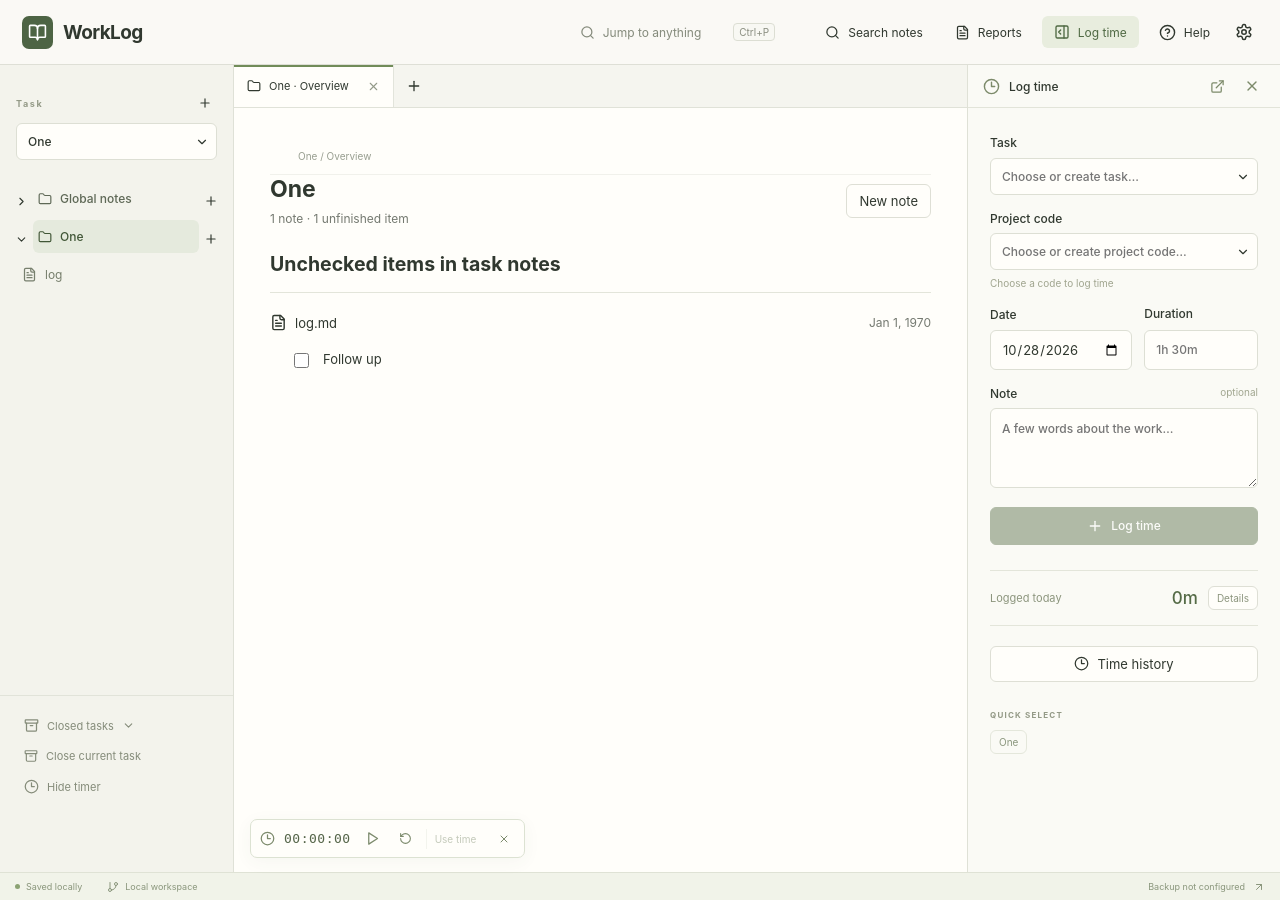
Scenario: opens one overview tab, saves a checkbox to its source, and jumps into the checked note
Step 1. Click the 1st button titled "Open One overview · Drop here to move to One" → (116,236), box [33,220,199,253]
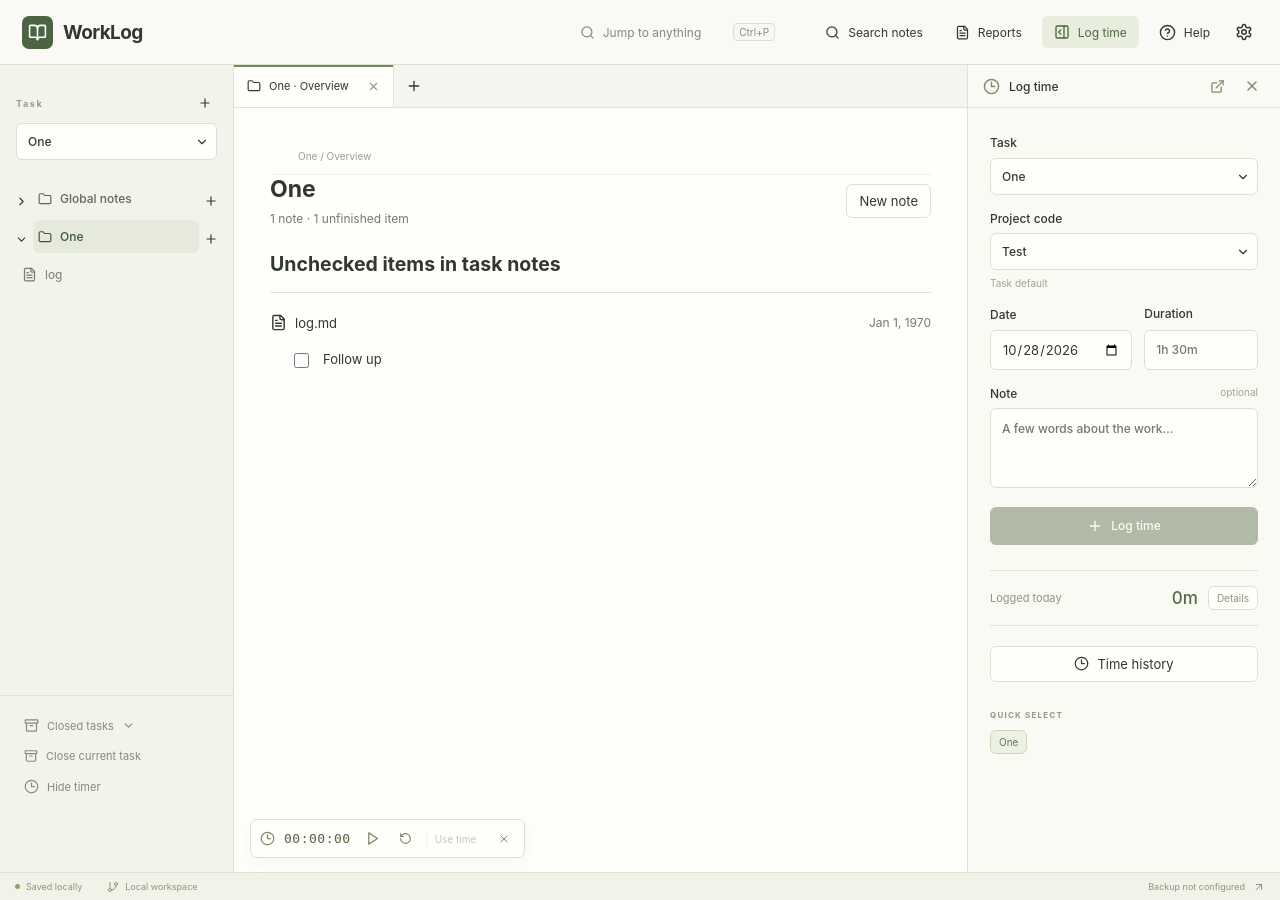
Step 2. Click the checkbox named "Follow up" → (302,361), box [294,353,309,368]
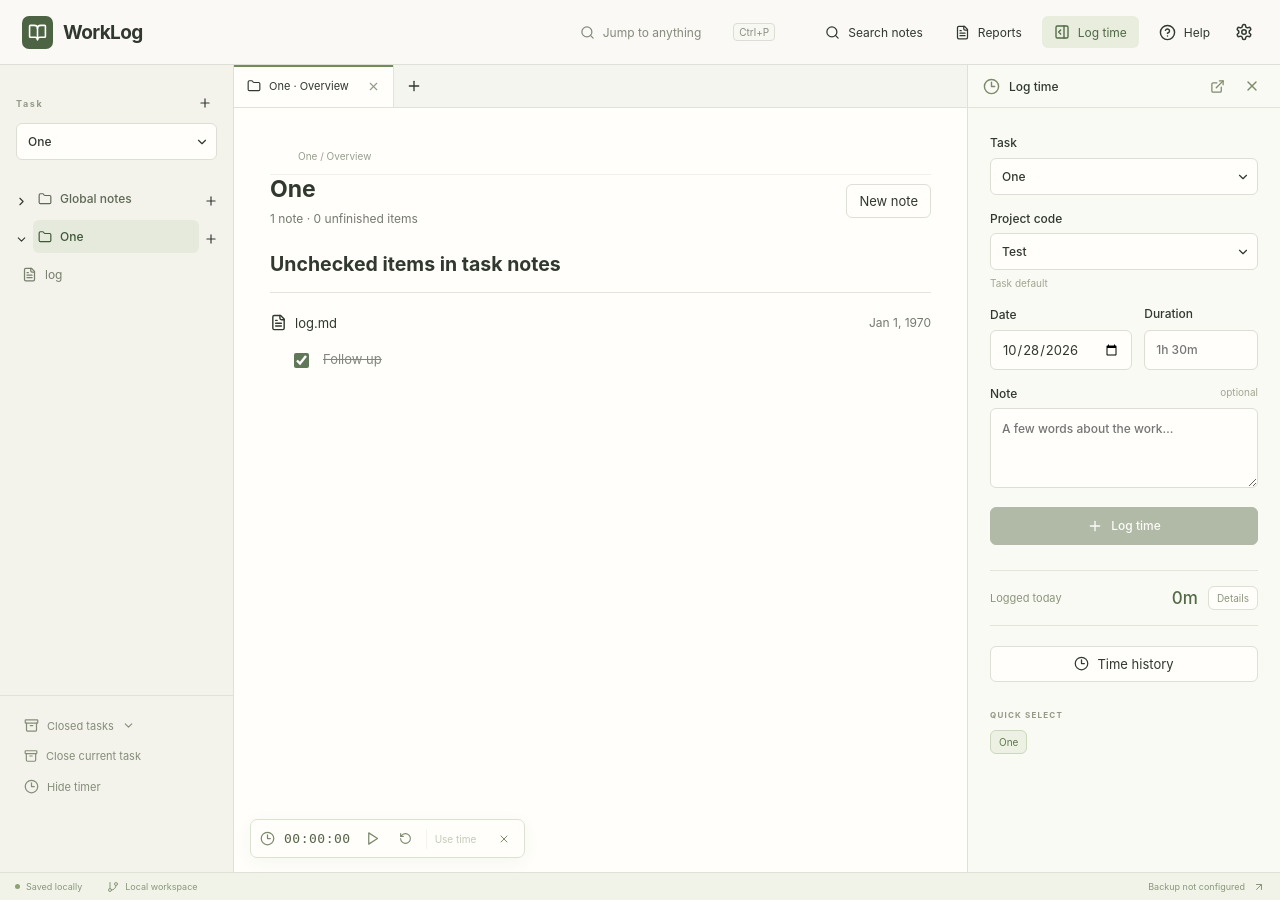
Check: the checkbox is checked, box [294,353,309,368]
Step 3. Click the button "Follow up" → (352,360), box [318,346,387,373]
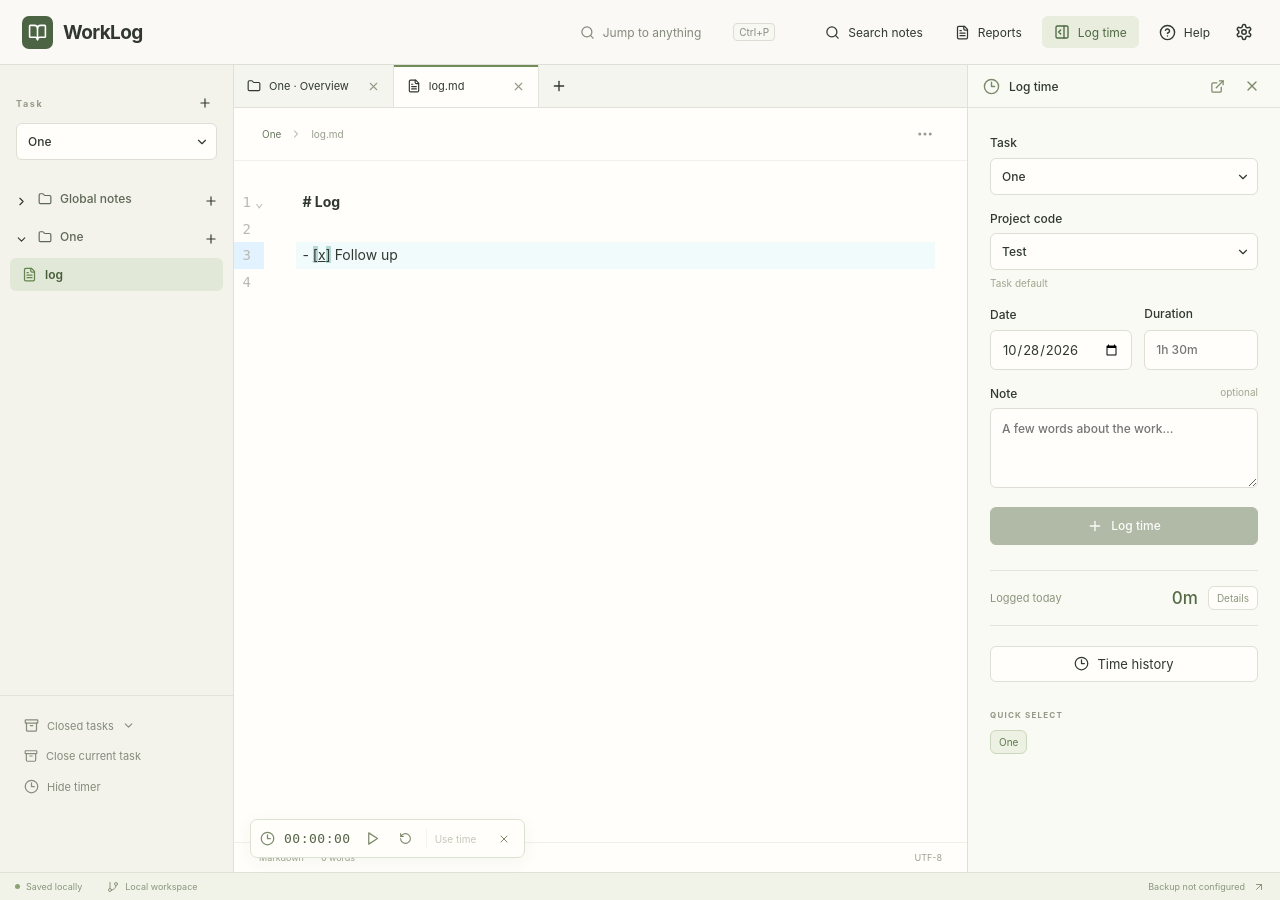
Check: the field with class "cm-content" shows "[x] Follow up", box [296,193,935,269]
Check: the element with class "cm-editor" is shown, box [234,193,935,290]
Step 4. Click the 1st button titled "Open One overview · Drop here to move to One" → (116,236), box [33,220,199,253]
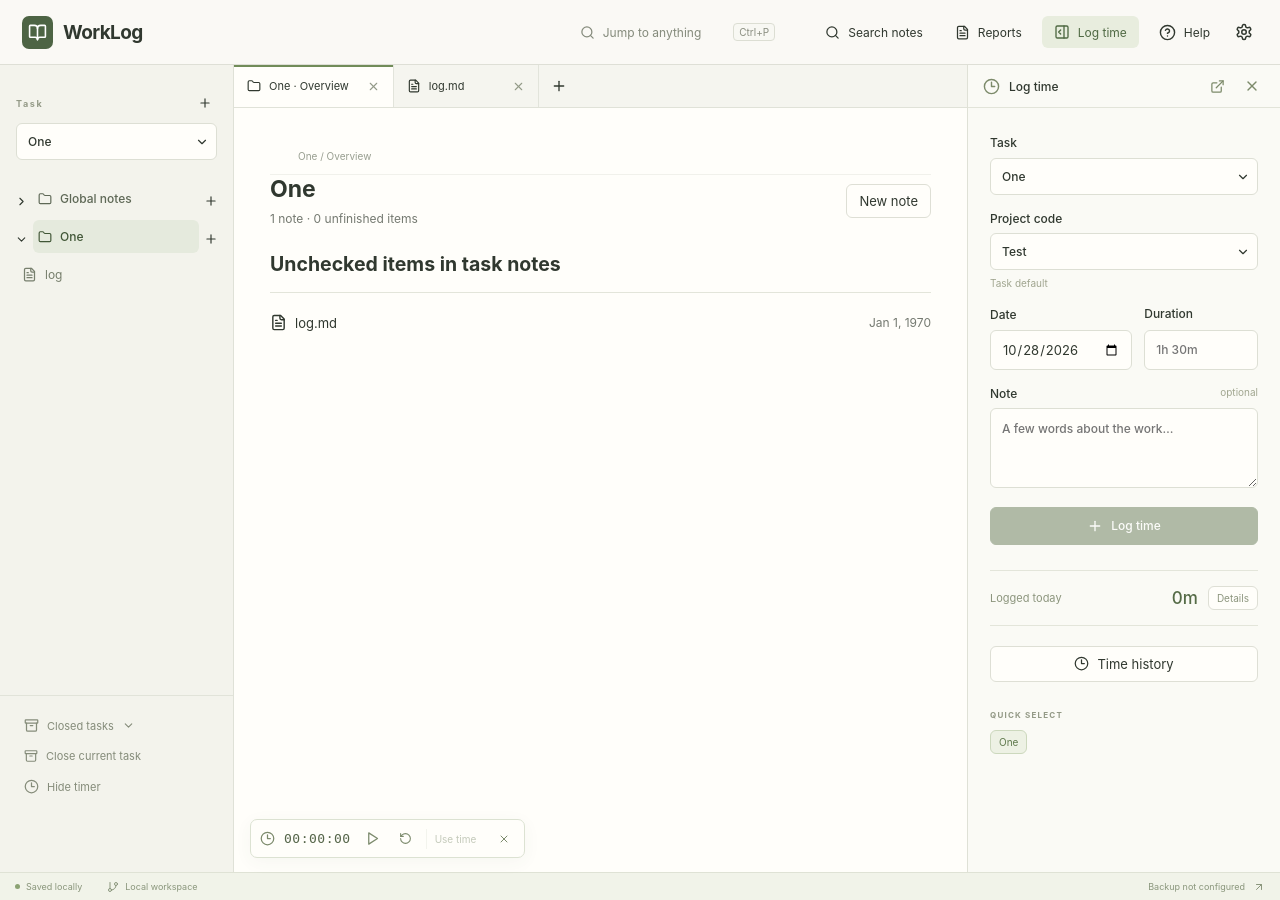
Check: the element named "One task overview" is shown, box [270,138,931,352]
Check: the number of buttons "One · Overview" is 1, box [234,68,362,104]
